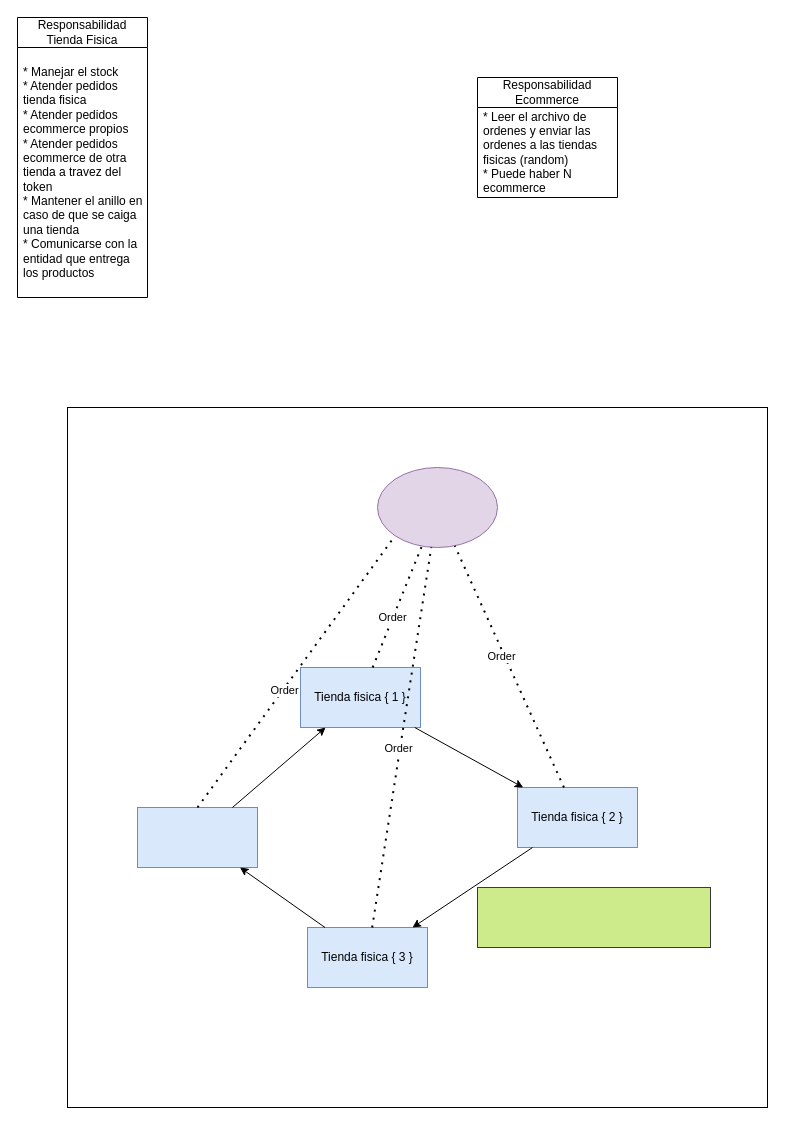
The diagram is 785 pixels wide and 1125 high, and some of its shapes have lost their labels. Each missing label, with the centre of its shape:
"ecommerce" belongs at pixel 437 507.
"Tienda fisica { 0 }" belongs at pixel 197 837.
"Token { HashMap<(id_origen), EcommerceOrder> }" belongs at pixel 593 917.
